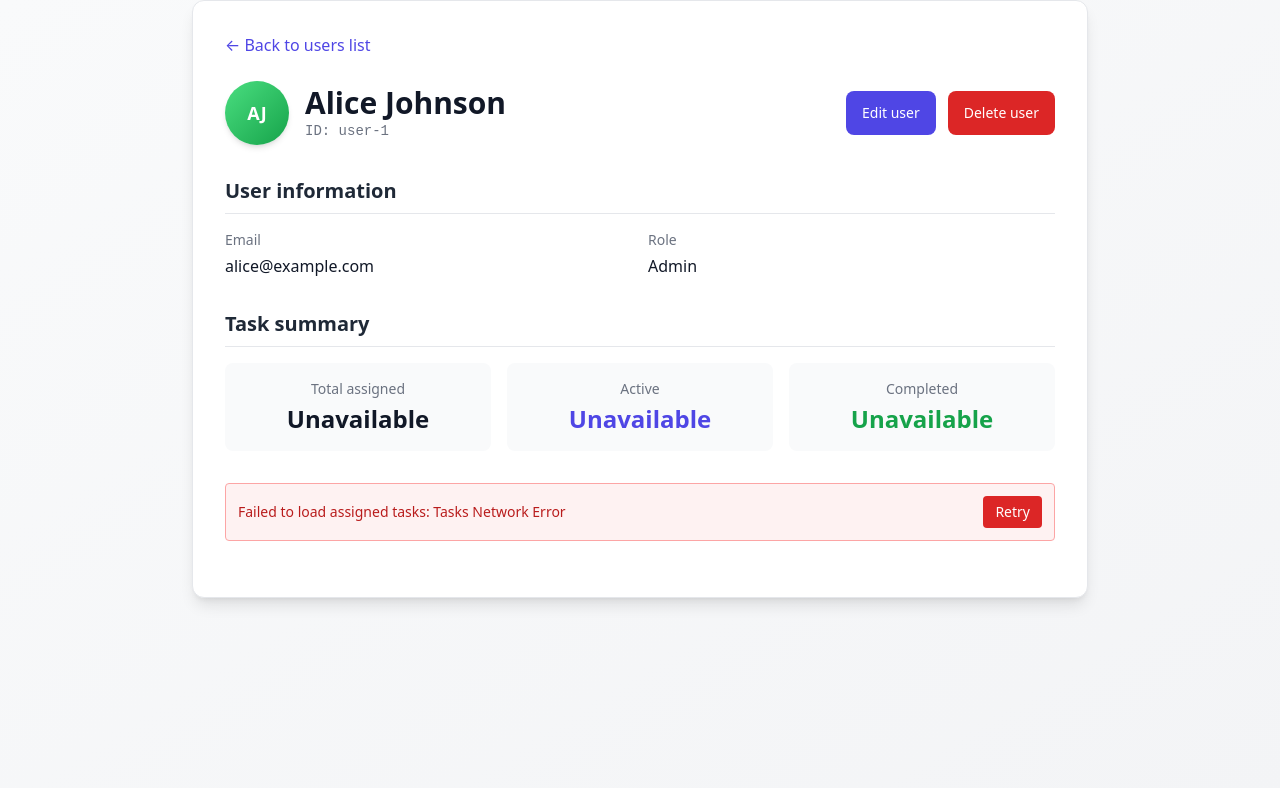
Scenario: UserDetails › shows the user profile plus a retryable error when only the tasks fetch fails
The image size is (1280, 788).
Check: the heading "Alice Johnson" is shown, box [305,85,506,121]
Check: the text "Failed to load assigned tasks: Tasks Network Error" is shown, box [238,502,566,522]
Click the button "Retry".
click(1013, 512)  # box [983,496,1042,528]
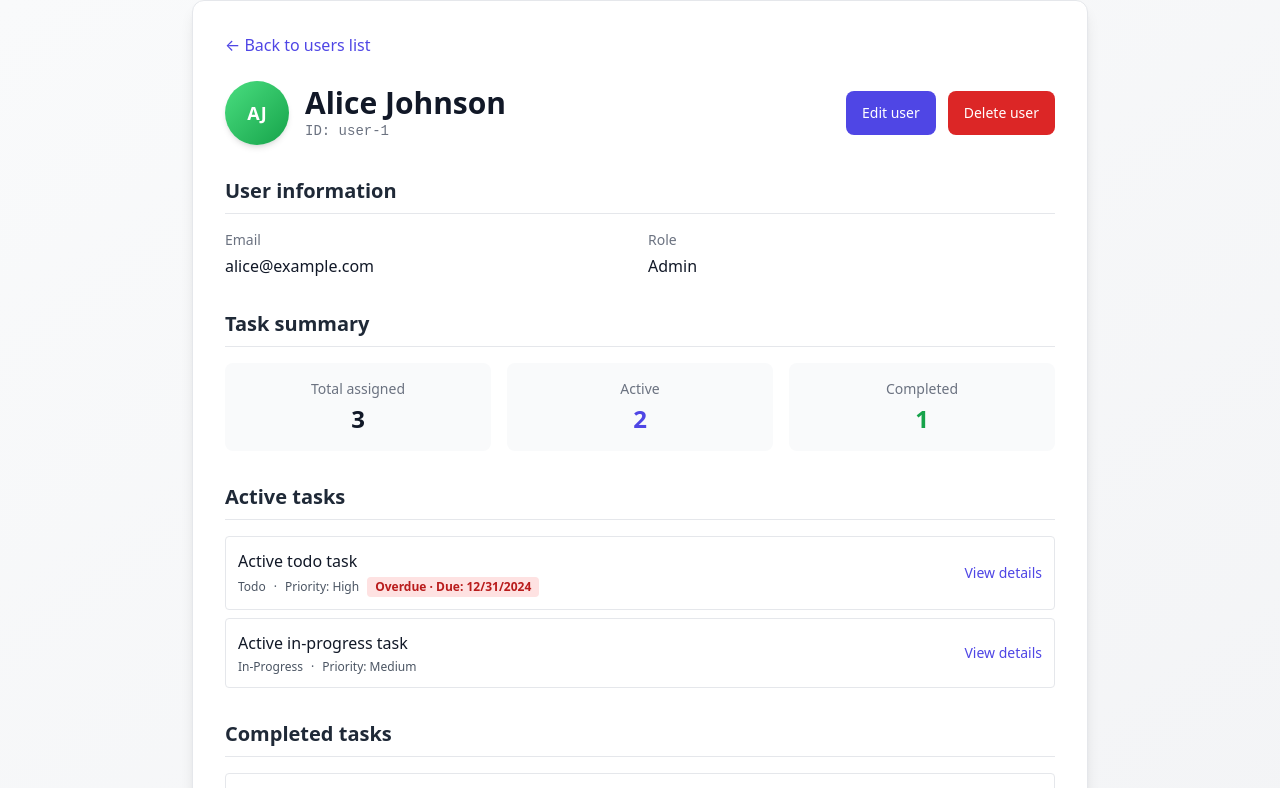
Check: the text "Active todo task" is shown, box [238,550,357,572]
Check: the text "Failed to load assigned tasks" is gone
Check: the text "Unavailable" is gone
